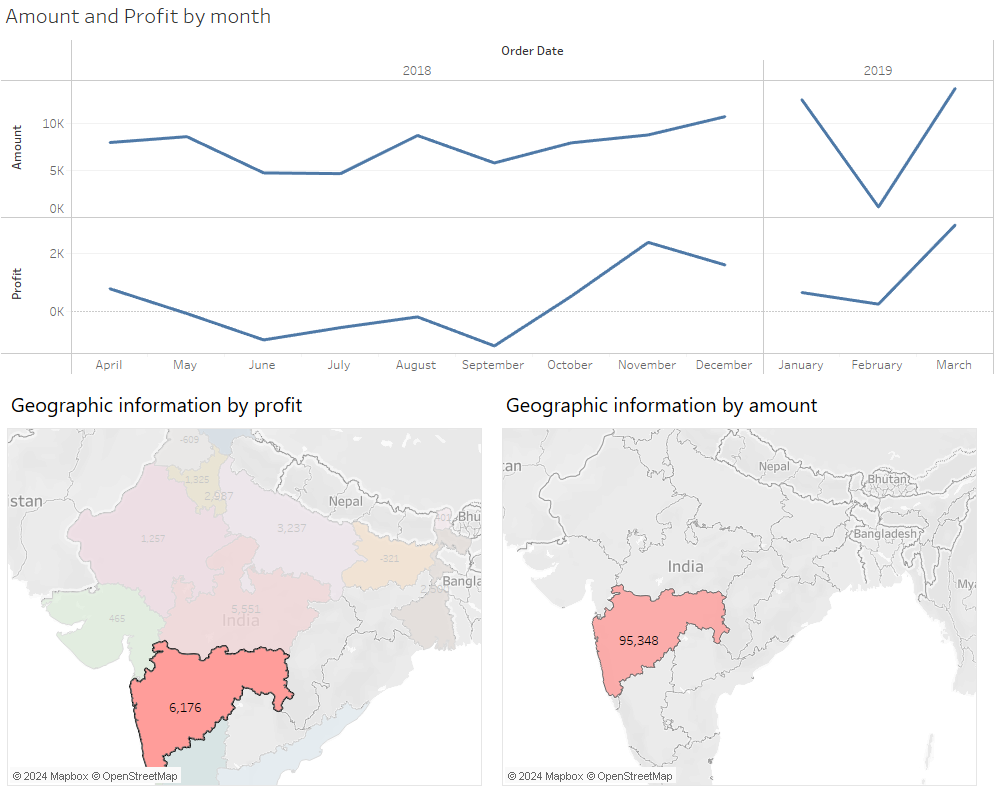

This screenshot's page, from the dashboard's own definition file:
{"tool":"tableau","page":{"name":"Dashboard 2","canvas":[1000,800],"ordinal":1},"visuals":[{"type":"worksheet","title":"Sheet 3","mark":"Automatic","rows":["Amount","Profit"],"cols":["Order Date","Order Date"],"box":[1,0,993,378]},{"type":"worksheet","title":"Sheet 5","mark":"Multipolygon","box":[7,389,475,400]},{"type":"worksheet","title":"Sheet 4","mark":"Multipolygon","box":[502,389,475,400]}]}

Visuals, with their boxes in screenshot pixels (x1, y1, x2, y2), scaled from the page's 1000x800 canvas onto the 998x791 screenshot:
"Sheet 3" worksheet: bbox(1, 0, 992, 374)
"Sheet 5" worksheet (Multipolygon marks): bbox(7, 385, 481, 780)
"Sheet 4" worksheet (Multipolygon marks): bbox(501, 385, 975, 780)
